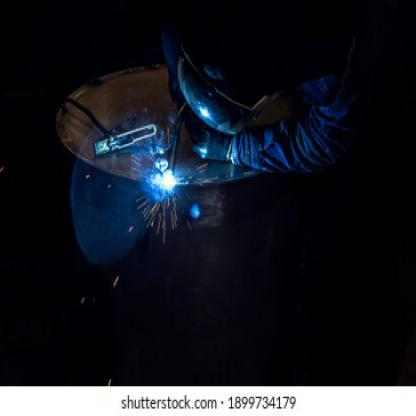with_gloves: (190, 125, 233, 165)
